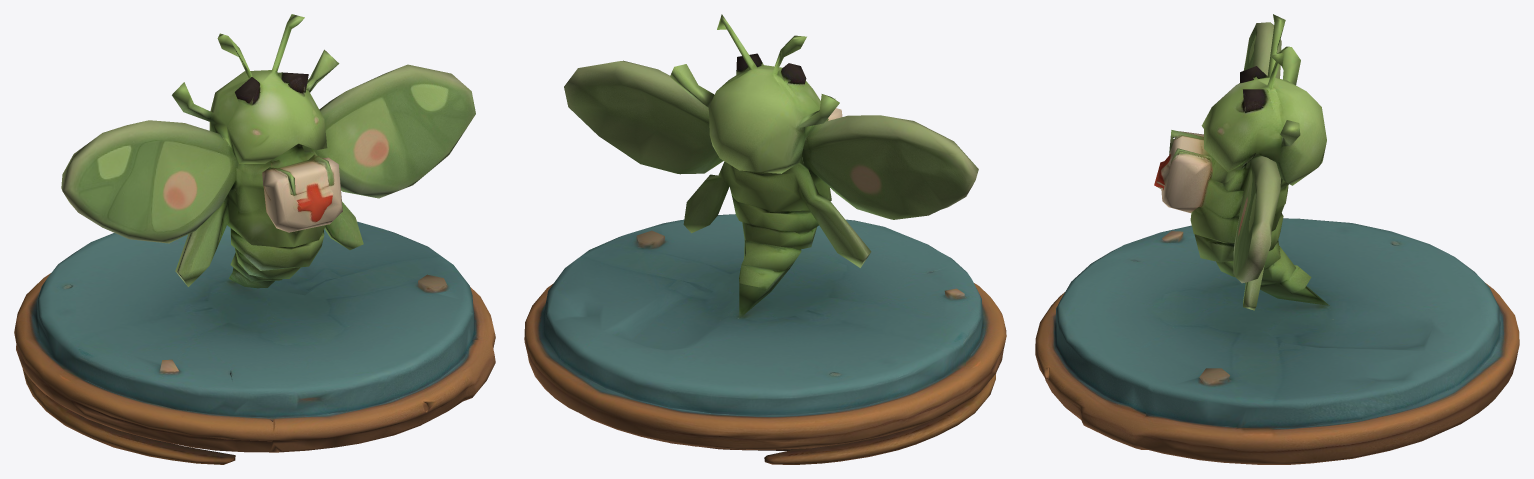
Rendered from utility_doc_moth_3000.glb.
The picture shows the model from 3 angles, left to right: view 1: azimuth 30°, elevation 25°; view 2: azimuth 150°, elevation 25°; view 3: azimuth 270°, elevation 25°; orthographic projection.
Parts seen in each view (by area): view 1: tripo_node_aefd2770-7329-44d2-93b6-067e9644dadf; view 2: tripo_node_aefd2770-7329-44d2-93b6-067e9644dadf; view 3: tripo_node_aefd2770-7329-44d2-93b6-067e9644dadf.
Part boxes in pixels (box(x1,y1,x2,y2)): tripo_node_aefd2770-7329-44d2-93b6-067e9644dadf: box(14, 14, 495, 464); tripo_node_aefd2770-7329-44d2-93b6-067e9644dadf: box(524, 14, 1006, 464); tripo_node_aefd2770-7329-44d2-93b6-067e9644dadf: box(1035, 14, 1519, 464).
Size of the model in its own units: 0.9802 by 0.7786 by 0.9786.
1 material, 1 textured.
